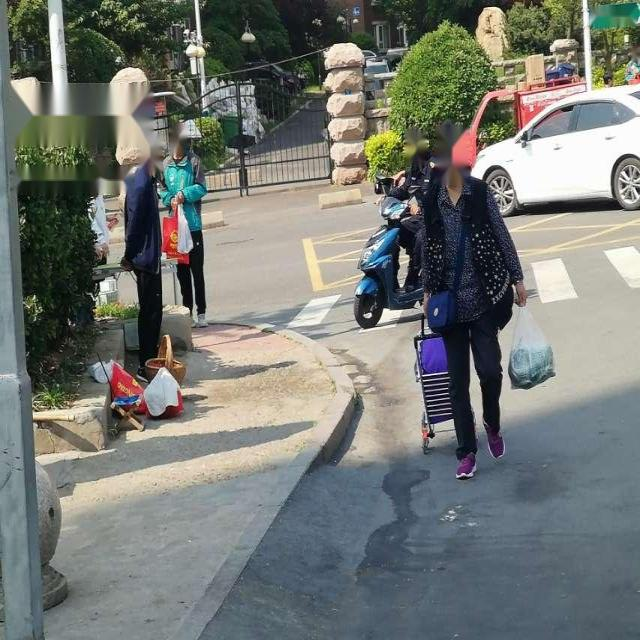fixed_stall: (90, 256, 190, 439)
